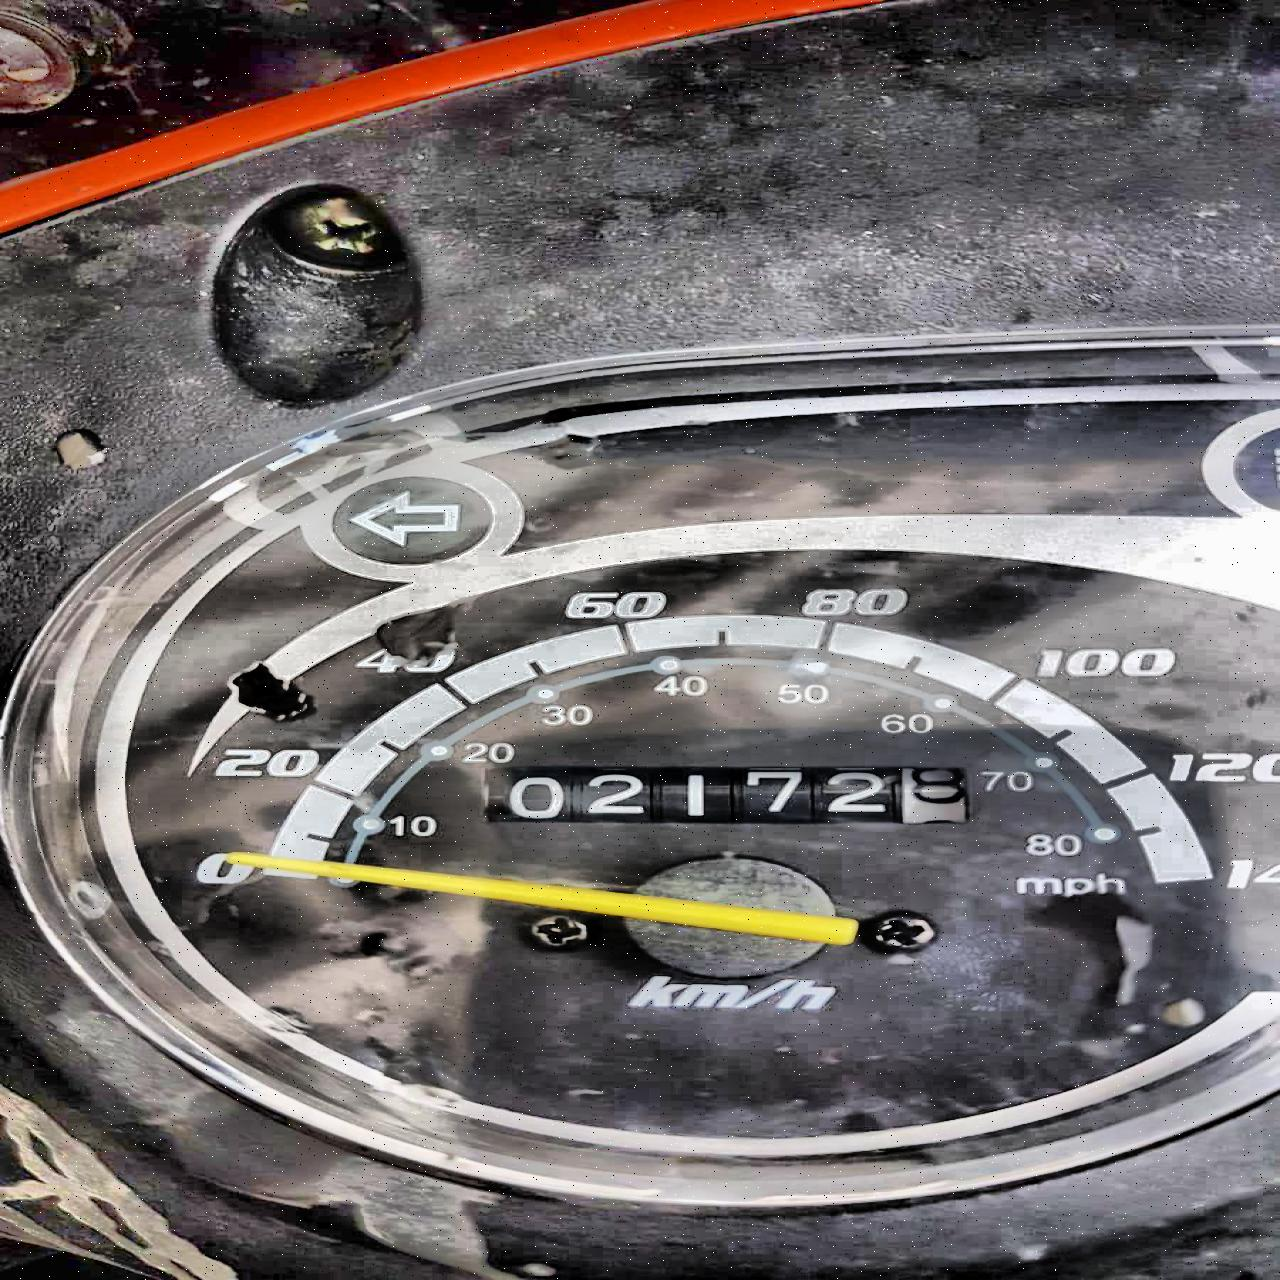0: (505, 771, 567, 821)
1: (674, 769, 719, 821)
2: (580, 765, 647, 821), (826, 768, 891, 818)
7: (740, 767, 806, 812), (981, 769, 1006, 792)
8: (908, 765, 966, 808)
odometer: (485, 760, 998, 829)
